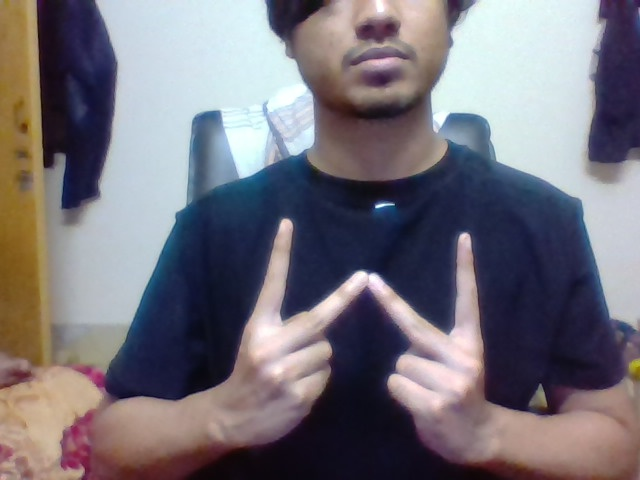W: (259, 213, 483, 343)
